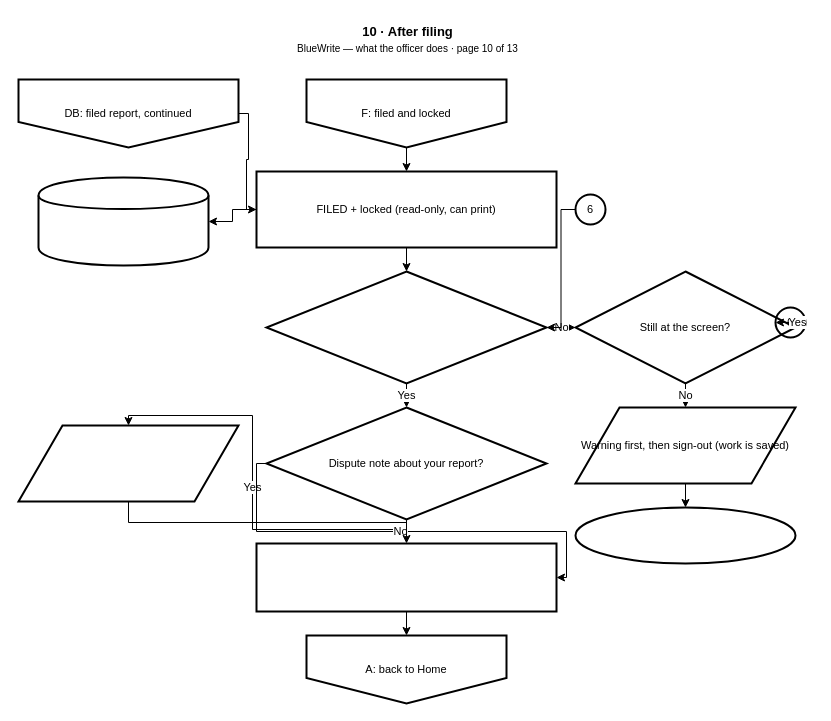
The diagram is 831 pixels wide and 721 high, and some of its shapes have lost their labels. The centre of each missing label's shape, as x and y in pixels:
Ask the office — only an Admin can change a filed report: the point at 128,463
Bell ringing with news?: the point at 406,327
Close — carry on: the point at 406,577
Database: the point at 123,221
END: the point at 685,535
